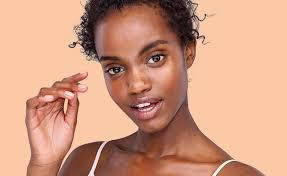face: (94, 4, 182, 133)
